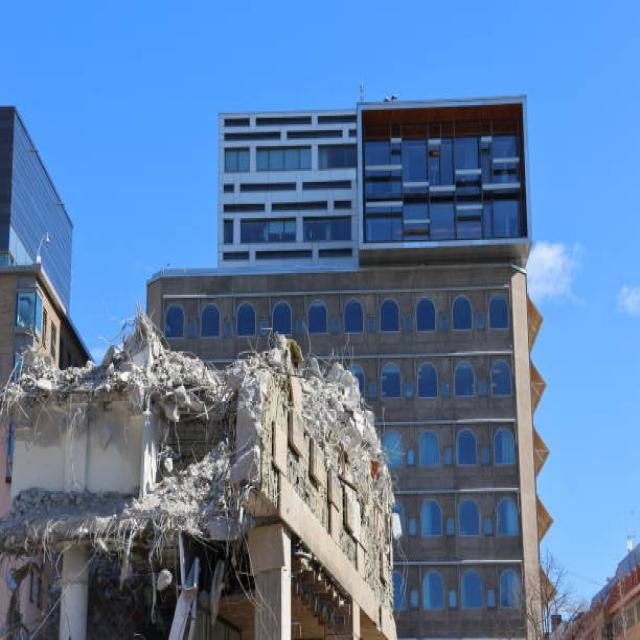Destroyed_building: (4, 1, 499, 640)
